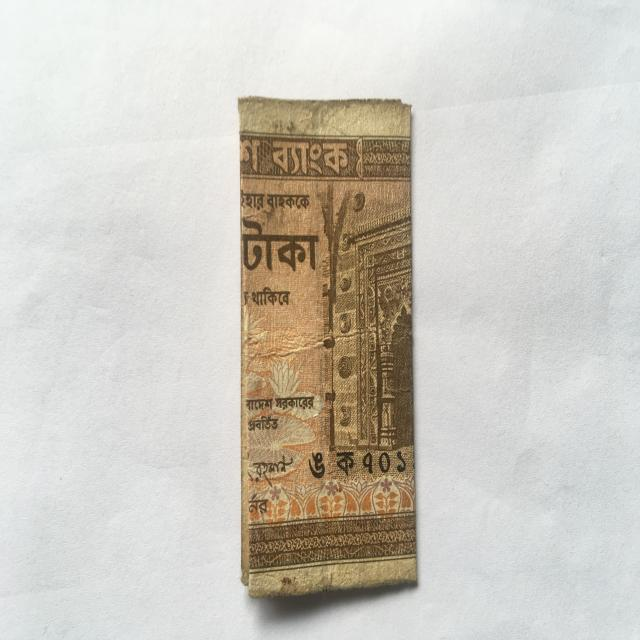Taka: (232, 82, 428, 606)
